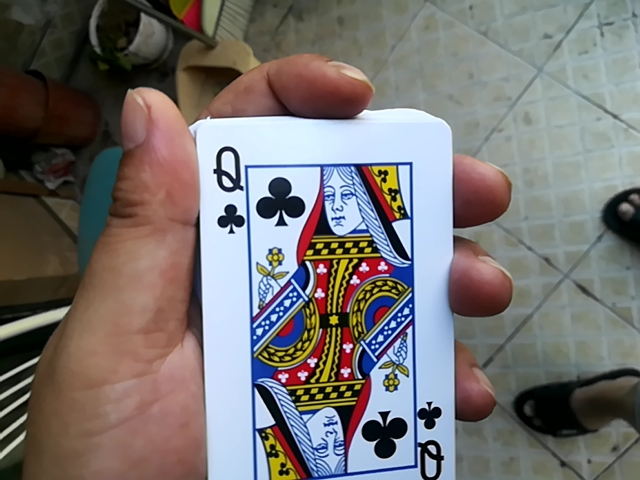mh q: (195, 104, 450, 477)
